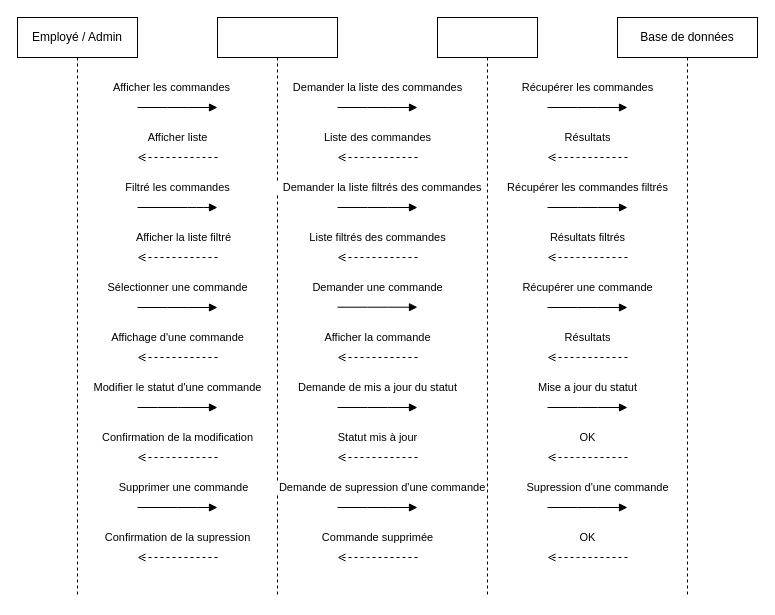
Image size: 775x615. Some labels were removed from this diagram. Each missing label, with the box of its shape:
Controller: (436, 16, 538, 598)
Interface Web: (216, 16, 338, 598)
